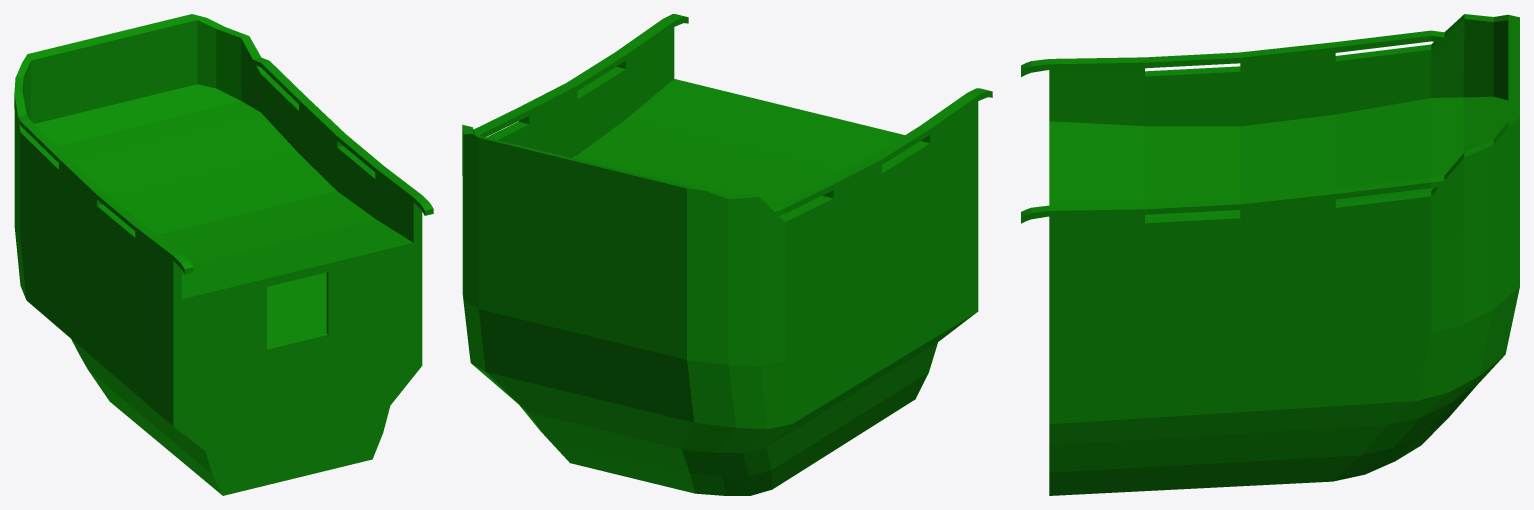
File: Verde7.fbx
The picture shows the model from 3 angles, left to right: view 1: azimuth 30°, elevation 25°; view 2: azimuth 150°, elevation 25°; view 3: azimuth 270°, elevation 25°; orthographic projection. The views are drawn at different scales.
Visible parts, largest first — view 1: Popa_Verde; view 2: Popa_Verde; view 3: Popa_Verde.
Boxes of the visible parts, left/top/right/bottom form: Popa_Verde: left=14, top=14, right=433, bottom=495; Popa_Verde: left=462, top=14, right=992, bottom=495; Popa_Verde: left=1021, top=14, right=1519, bottom=495.
Bounding box in the file's own units: 2.1 × 2.47 × 2.92.
